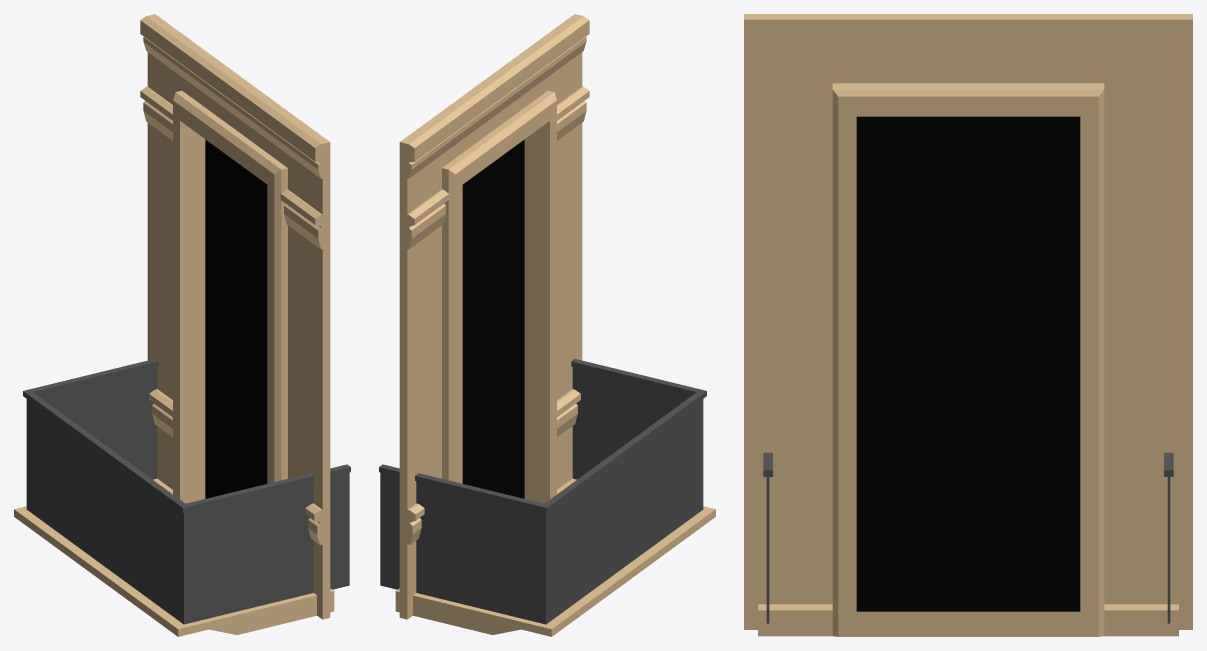
The model's file is Balcony_2_A.fbx.
3 views of the same model, side by side, from view 1: azimuth 30°, elevation 25°; view 2: azimuth 150°, elevation 25°; view 3: azimuth 270°, elevation 25° (orthographic). The views are drawn at different scales.
Parts seen in each view (by area): view 1: Balcony_2_A; view 2: Balcony_2_A; view 3: Balcony_2_A.
Boxes of the visible parts, x1,y1,x2,y2 form: Balcony_2_A: [14, 14, 350, 636]; Balcony_2_A: [379, 14, 715, 636]; Balcony_2_A: [744, 14, 1192, 636].
Size of the model in its own units: 115 by 200 by 300.
